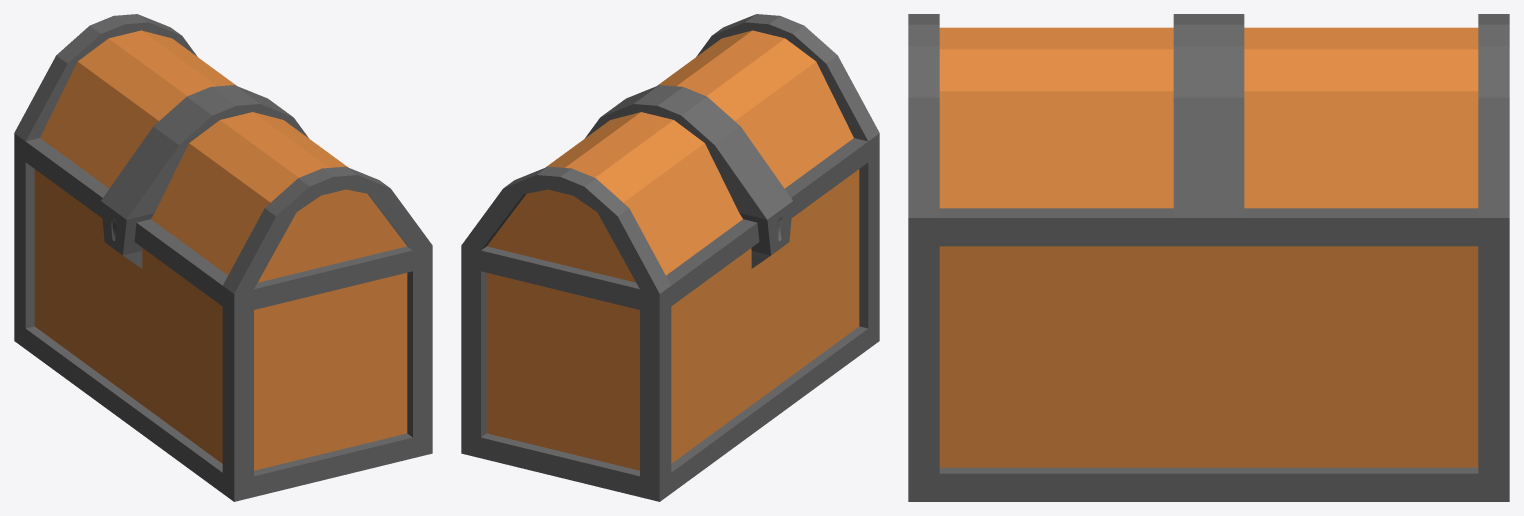
Rendered from ChestFBX.fbx.
The picture shows the model from 3 angles, left to right: view 1: azimuth 30°, elevation 25°; view 2: azimuth 150°, elevation 25°; view 3: azimuth 270°, elevation 25°; orthographic projection. The views are drawn at different scales.
Parts seen in each view (by area): view 1: Fill.001, Fill.002, Side.002, CenterBar.001, Side.004, Bar.004, Bar.001, Side.003, Side.001; view 2: Fill.001, Fill.002, Side.001, CenterBar.001, Side.003, Bar.004, Bar.001, Side.004, Side.002; view 3: Fill.001, Fill.002, Bar.002, Bar.003, CenterBar.001, Side.001, Side.002, Side.003, Side.004.
Boxes of the visible parts, x1,y1,x2,y2 form: Fill.001: (34,169,407,470); Fill.002: (40,30,406,282); Side.002: (222,245,432,501); CenterBar.001: (101,85,308,268); Side.004: (223,166,432,293); Bar.004: (25,326,223,493); Bar.001: (25,138,227,306); Side.003: (14,14,197,141); Side.001: (14,133,34,348); Fill.001: (486,169,859,470); Fill.002: (487,30,853,282); Side.001: (461,245,671,501); CenterBar.001: (585,85,792,268); Side.003: (461,166,670,293); Bar.004: (671,326,868,493); Bar.001: (666,138,868,306); Side.004: (696,14,879,141); Side.002: (859,133,879,348); Fill.001: (939,246,1478,467); Fill.002: (939,27,1478,208); Bar.002: (938,208,1479,246); Bar.003: (939,467,1479,501); CenterBar.001: (1173,14,1244,217); Side.001: (1478,218,1509,501); Side.002: (908,218,939,501); Side.003: (1478,14,1509,217); Side.004: (908,14,939,217).
Bounding box in the file's own units: 232 × 318 × 422.
